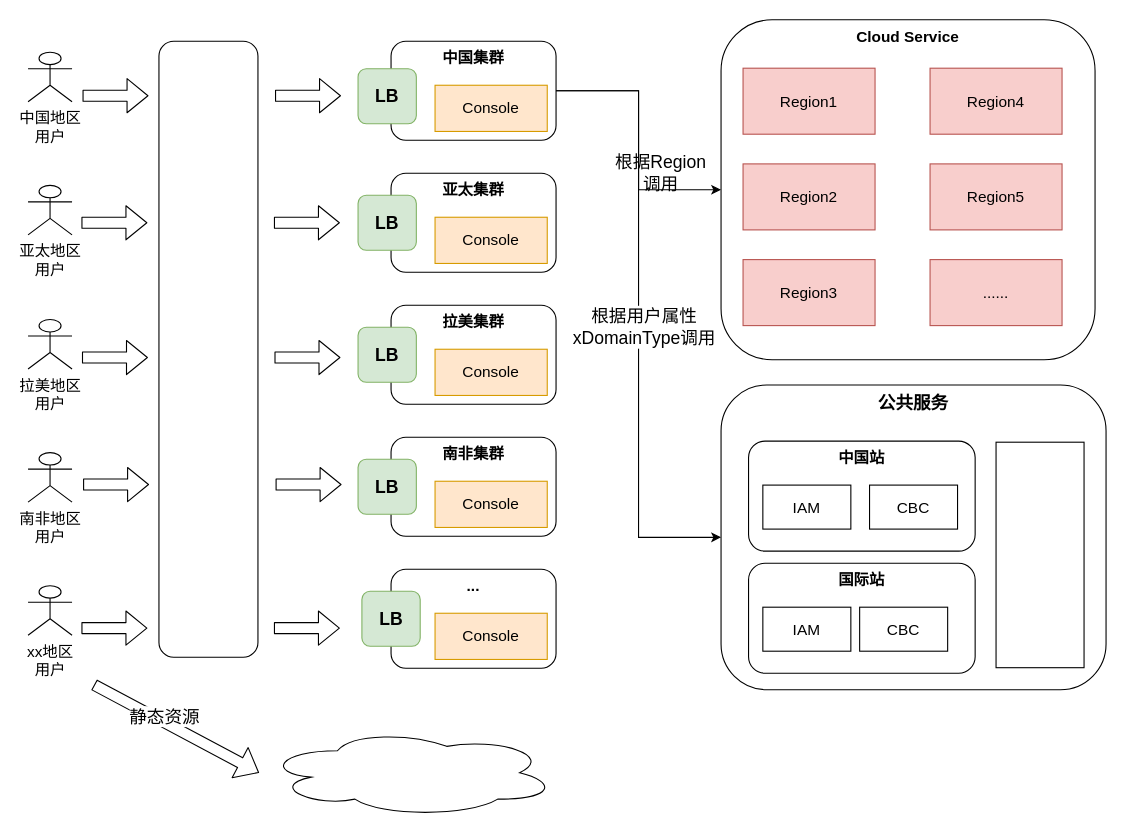
The diagram is 1125 pixels wide and 836 high, and some of its shapes have lost their labels. Each missing label, with the centre of its shape:
CDN+OBS: point 409,772
Silvan: point 1039,554
智能 DNS: point 208,348
